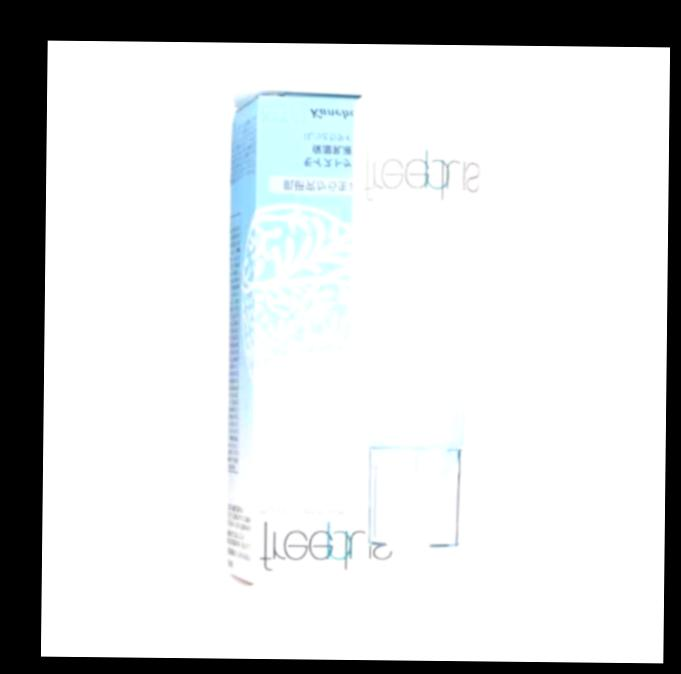cosmetic: (345, 88, 489, 550)
